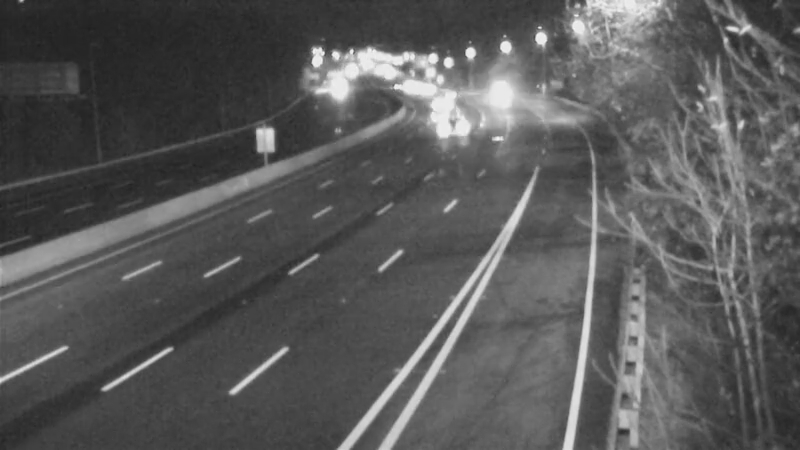vehicle: (402, 66, 452, 116), (426, 69, 476, 119), (472, 75, 522, 125), (414, 78, 464, 128), (412, 92, 462, 142), (438, 99, 488, 149)
